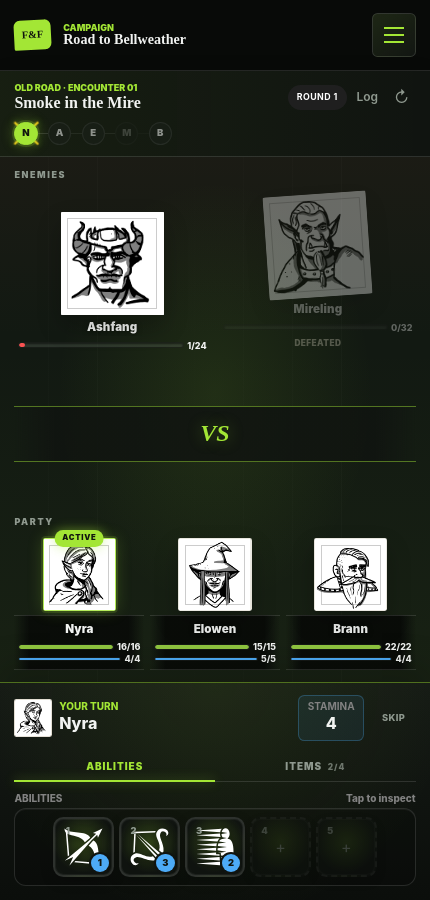
Test: <CombatPrototype /> › ends the encounter when the final enemy is defeated
The width and height of the screenshot is (430, 900).
Click the button with test id "skill-quick-shot".
click(84, 848)  # box top-left (53, 817), bottom-right (114, 878)
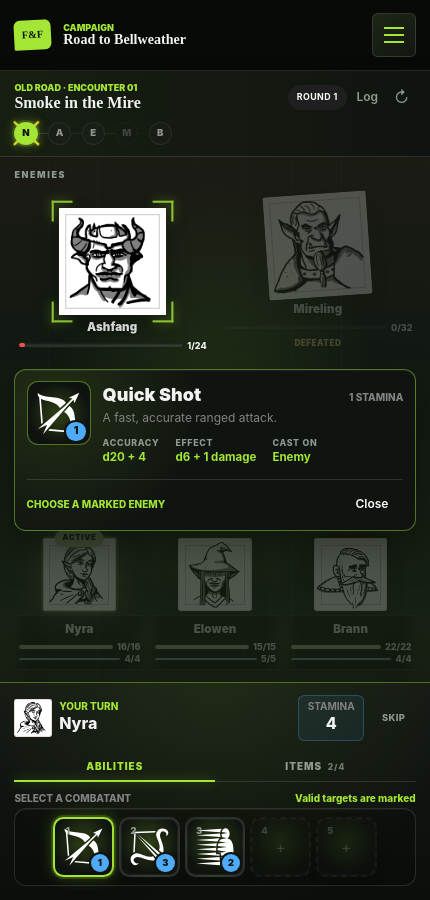
Click the button with test id "target-ashfang".
click(112, 281)  # box top-left (14, 209), bottom-right (209, 353)
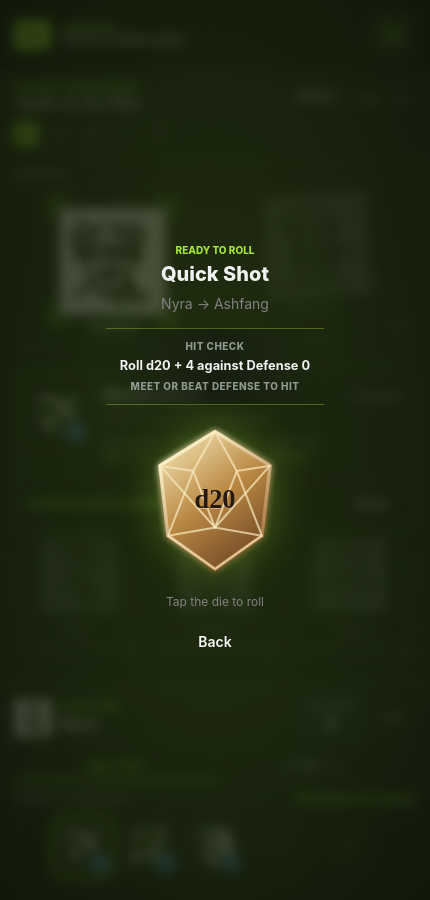
Click the button with test id "roll-trigger".
click(215, 501)  # box top-left (147, 426), bottom-right (283, 576)
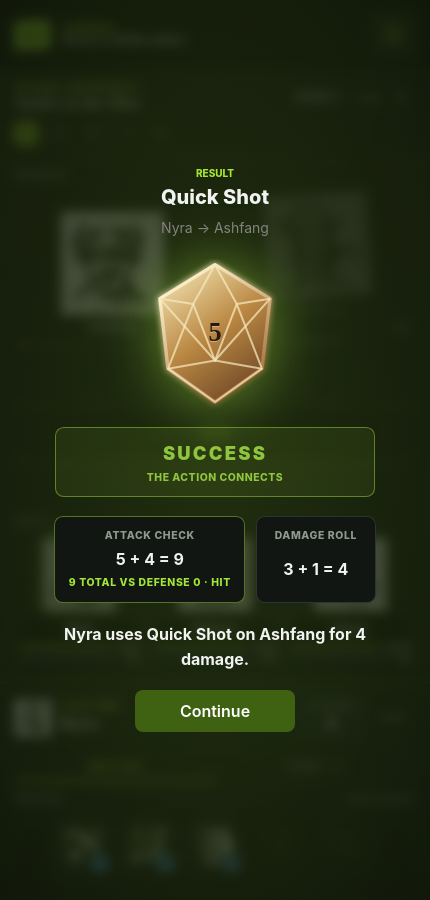
Expected: the dialog with test id "action-roll-overlay" shows "Result"
Click the button "Continue".
click(215, 711)  # box top-left (135, 690), bottom-right (295, 732)
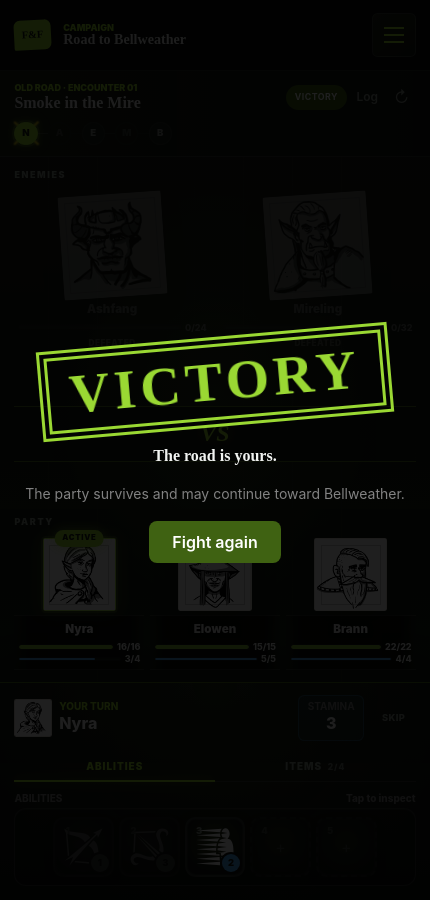
Expected: the heading "The road is yours." is shown, top-left (153, 444), bottom-right (277, 468)
